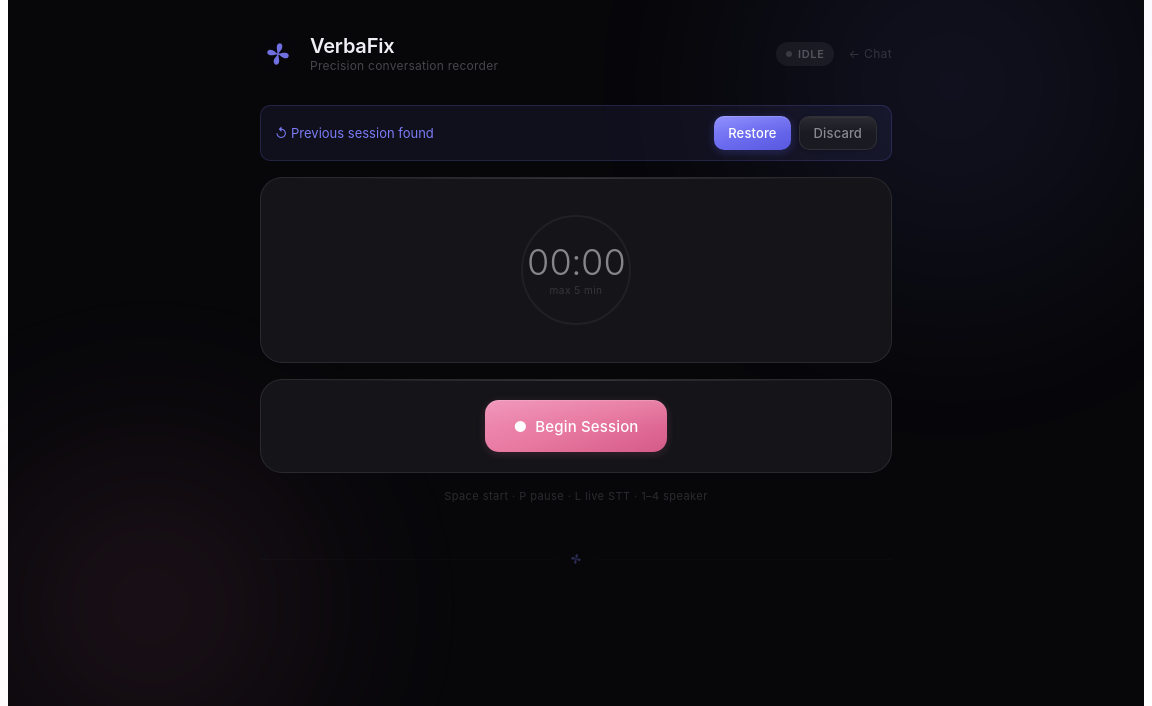
Test: VerbaFix component › correctedOutput fallback logic › displays summary when draft includes summary
Click the button "Restore" at (752, 133), box left=714, top=116, right=791, bottom=150
(page scrolled)
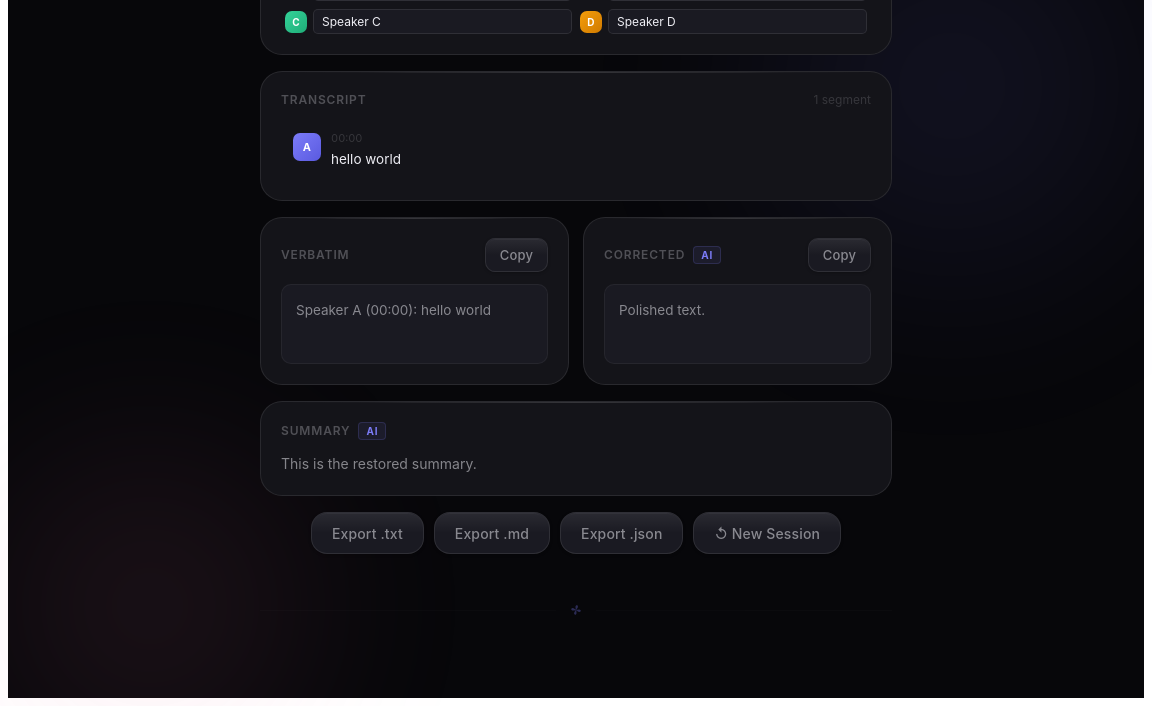
expect the text "This is the restored summary." is shown: met, box left=281, top=455, right=477, bottom=472
